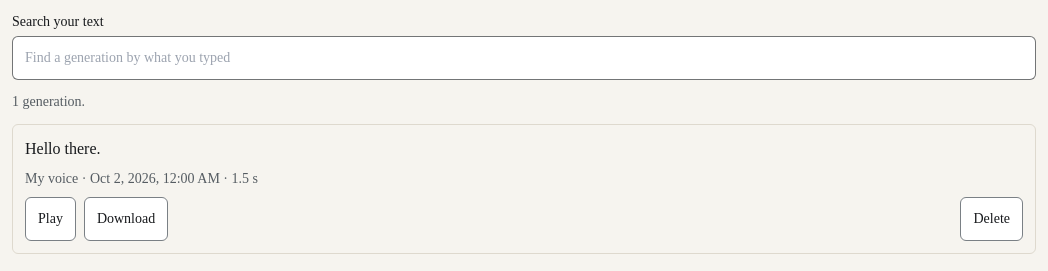
it: HistoryList › explains expiry when the audio is gone (410) or flagged unavailable
This screenshot has width=1048, height=271.
Click the button with aria-label "Play:" at [50, 219], box [25,197,76,241]
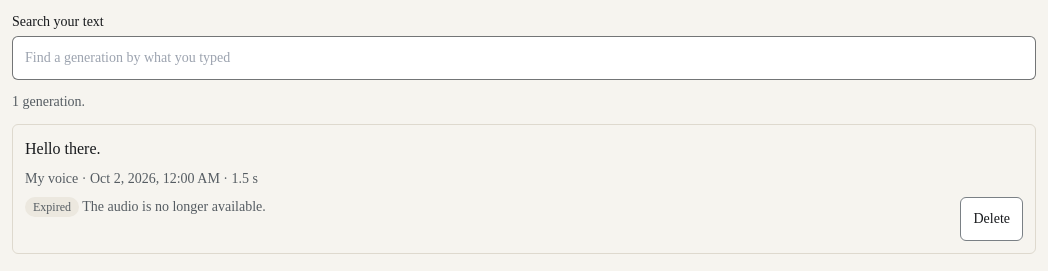
Now the text "Expired The audio is no longer available." is shown, box [25,197,266,217]
